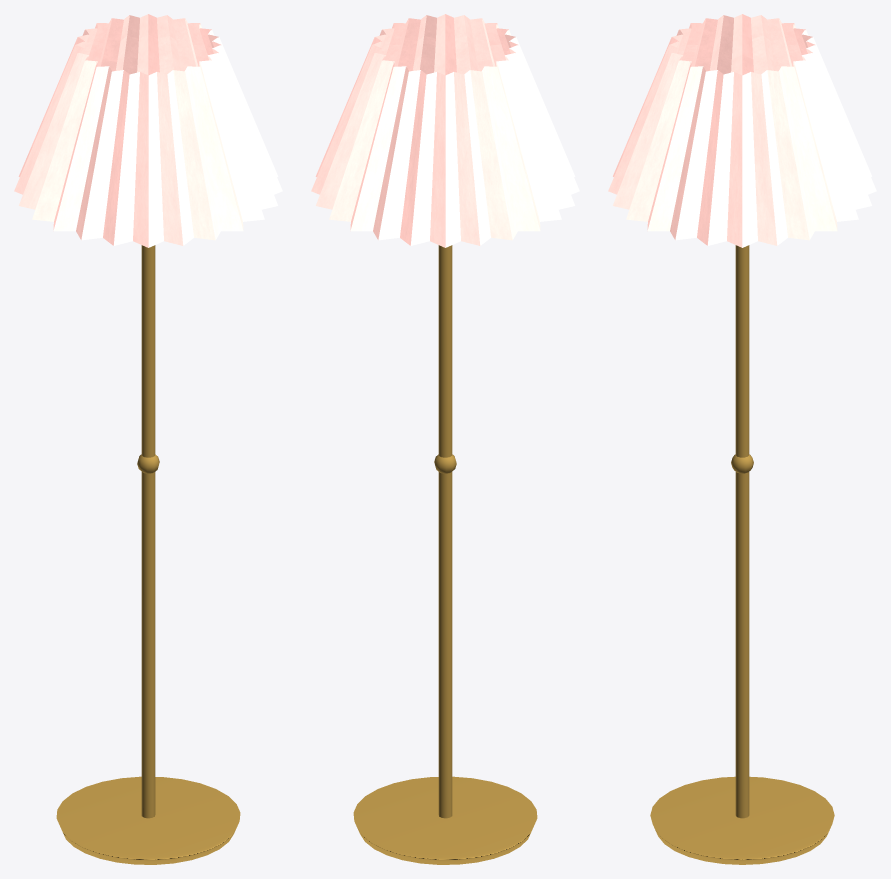
Rendered from pleated_lamp.glb.
3 views of the same model, side by side, from view 1: azimuth 30°, elevation 25°; view 2: azimuth 150°, elevation 25°; view 3: azimuth 270°, elevation 25° (orthographic).
Parts seen in each view (by area): view 1: model; view 2: model; view 3: model.
Part boxes in pixels (box(x1,y1,x2,y2)): model: box(14, 14, 282, 864); model: box(311, 14, 579, 864); model: box(608, 14, 876, 864).
Size of the model in its own units: 0.4664 by 1.5 by 0.4664.
3 materials, 3 textured.
